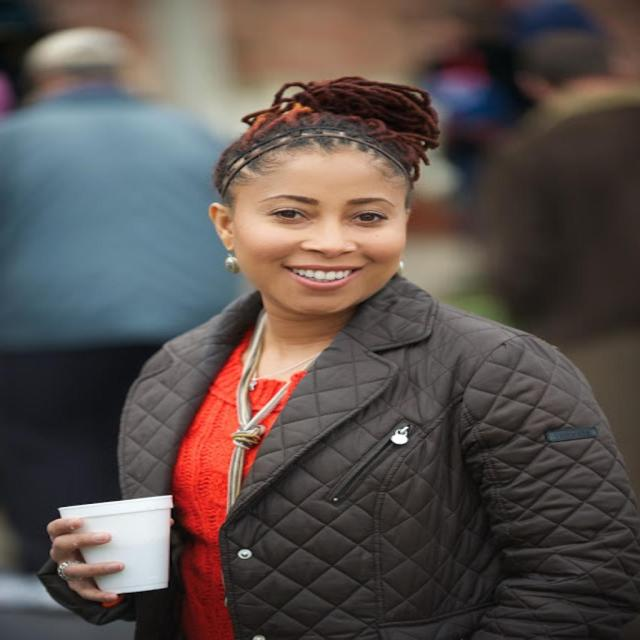Face: (231, 147, 412, 317)
